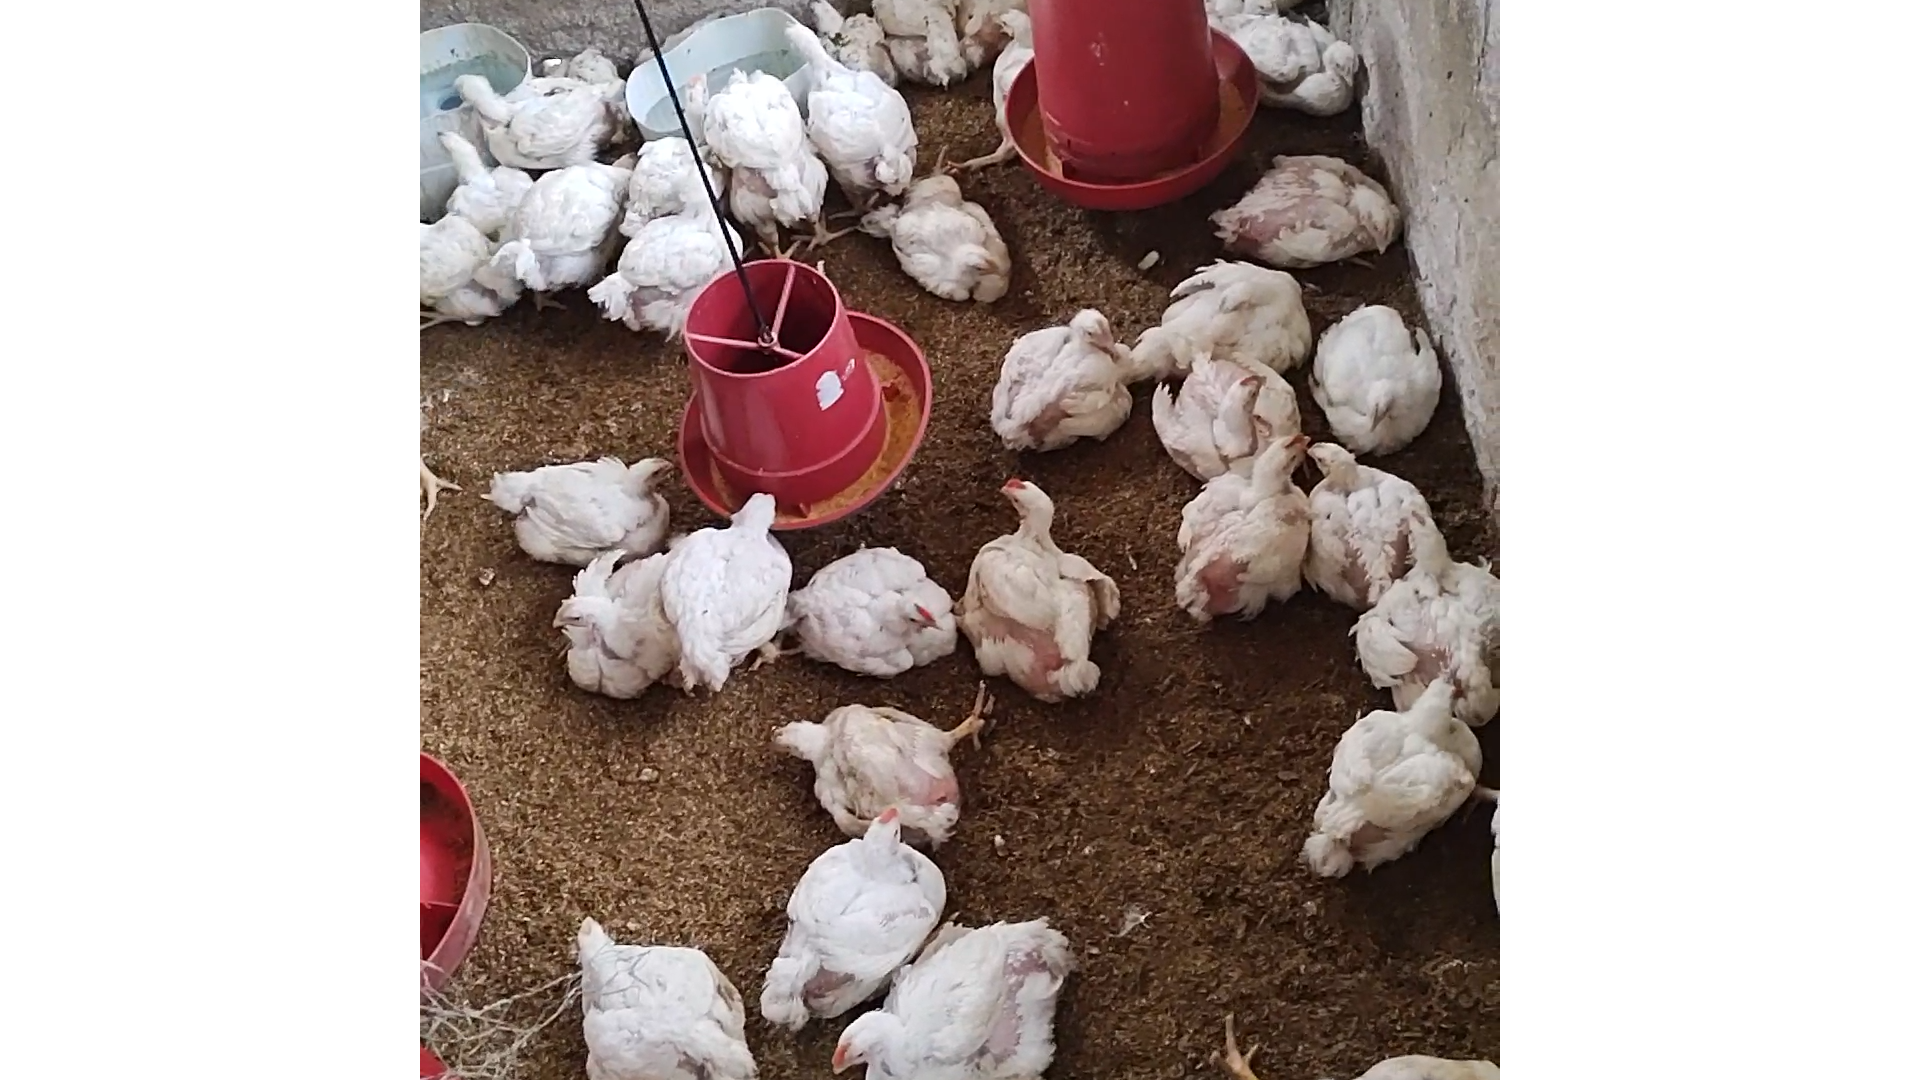Pollos: (938, 472, 1117, 738), (735, 818, 951, 1038), (814, 909, 1077, 1080), (1296, 678, 1480, 884), (551, 916, 761, 1080), (650, 468, 793, 692), (700, 51, 855, 252), (1168, 422, 1320, 622), (761, 698, 963, 839), (978, 291, 1142, 456), (760, 535, 963, 662), (1348, 549, 1513, 703), (1307, 302, 1465, 462), (781, 20, 919, 200), (1205, 146, 1400, 268), (1133, 251, 1313, 377), (1298, 438, 1445, 588), (1149, 348, 1307, 487), (487, 447, 671, 560), (1205, 0, 1373, 123), (870, 169, 1029, 295), (535, 549, 657, 708), (431, 113, 535, 297), (622, 170, 728, 351), (448, 61, 630, 160), (524, 146, 632, 306), (626, 70, 728, 222), (973, 3, 1062, 165), (877, 0, 996, 88), (808, 0, 885, 88)
